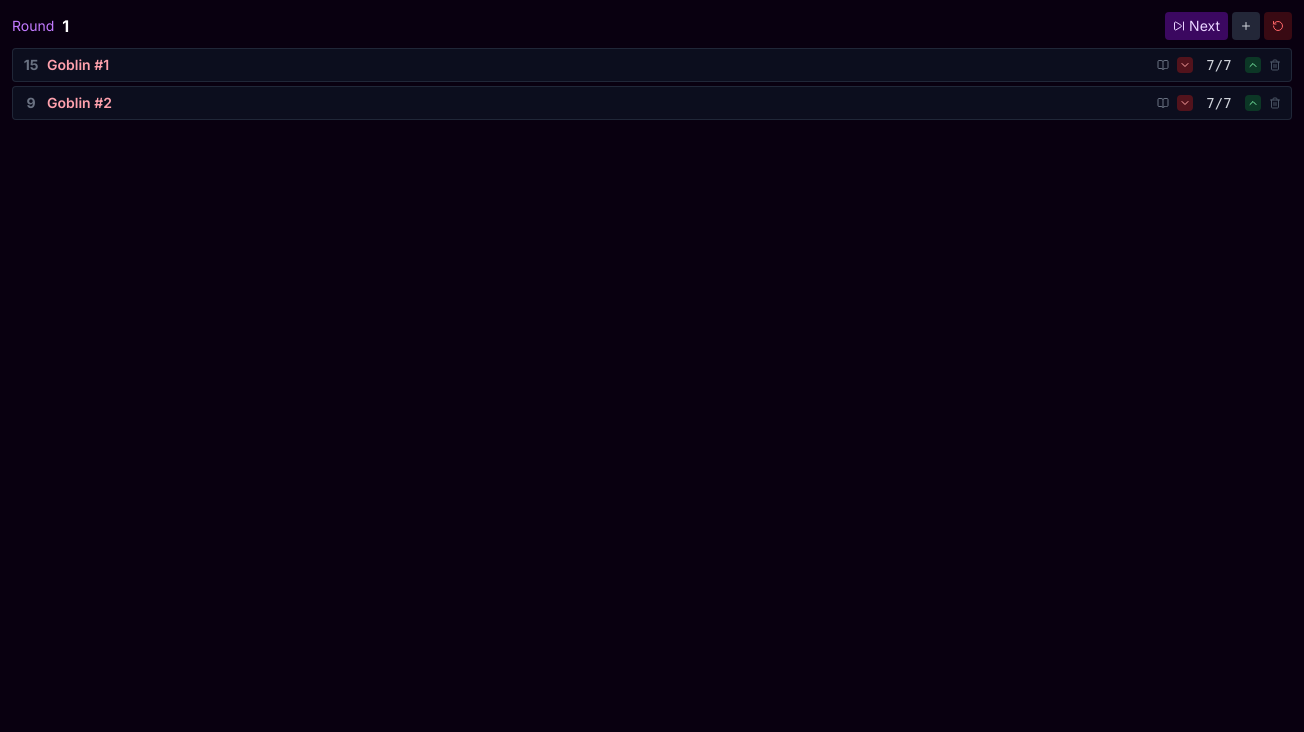
Scenario: InitiativeWidget stat-block panel › expands one row at a time, independently
Click the button named "Show attacks and spells for Goblin #1".
click(1163, 65)  # box [1155,57,1171,73]
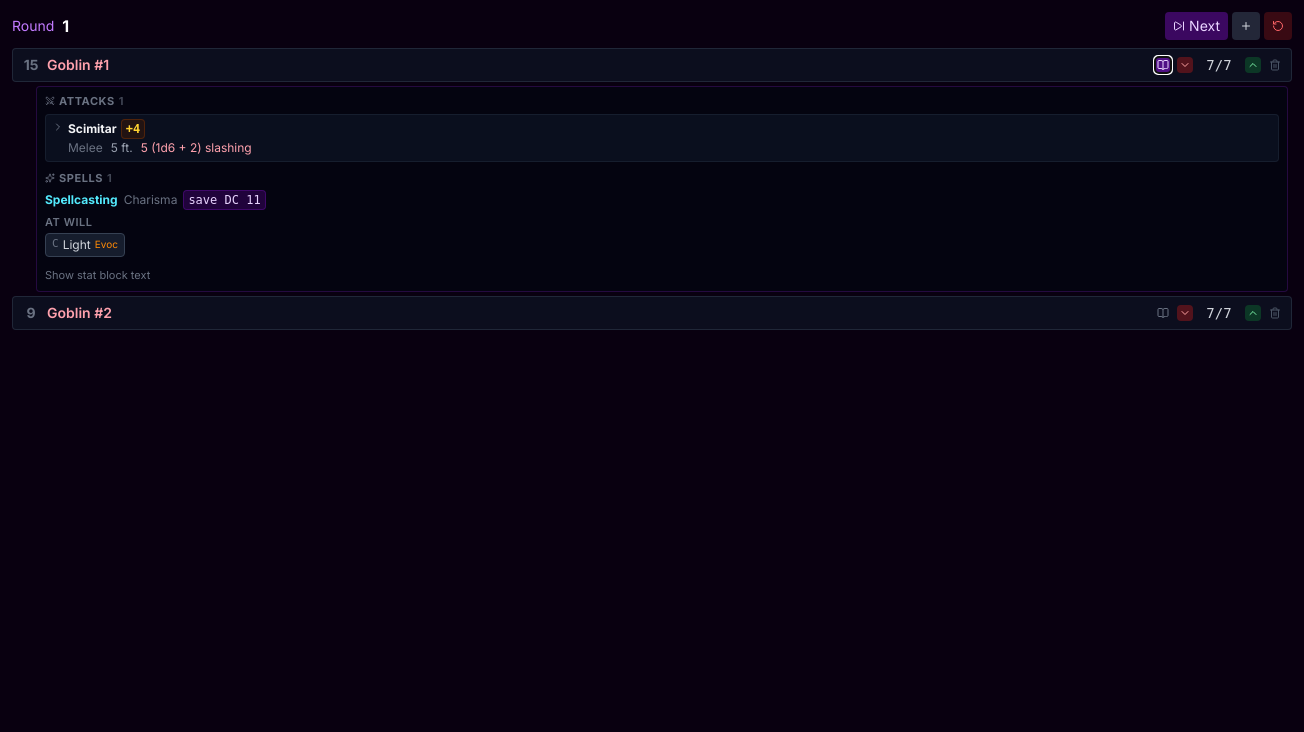
Expected: the text "5 (1d6 + 2) slashing" is shown once, [141,138,252,156]
Click the button named "Show attacks and spells for Goblin #2".
click(1163, 312)  # box [1155,304,1171,320]
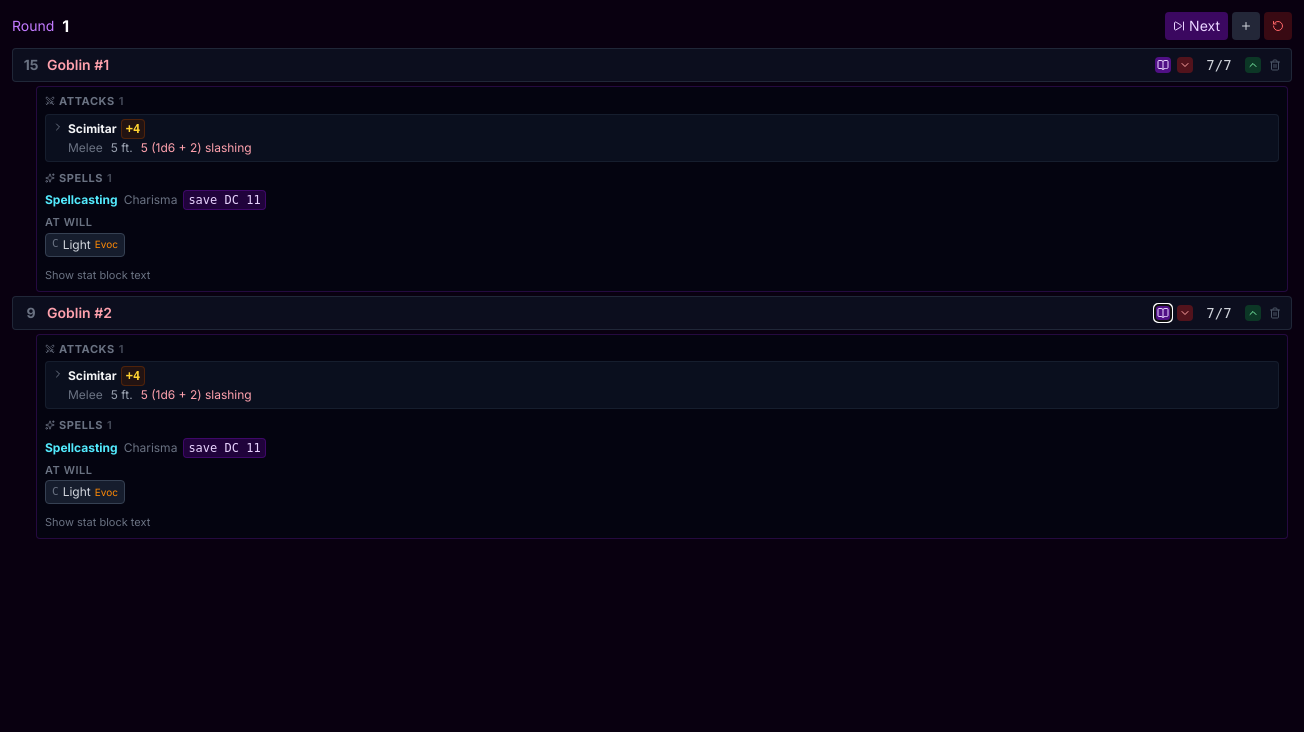
Expected: the text "5 (1d6 + 2) slashing" is shown 2 times, [141,138,252,156]; [141,386,252,404]
